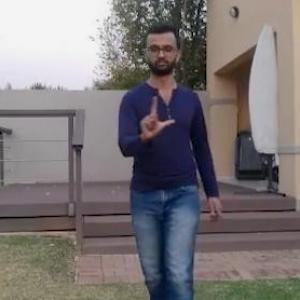land_hand: (128, 95, 182, 147)
